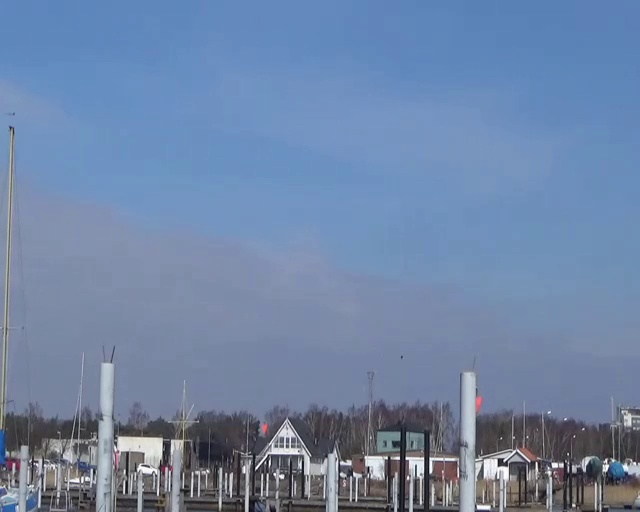BIRD: (398, 350, 407, 360)
